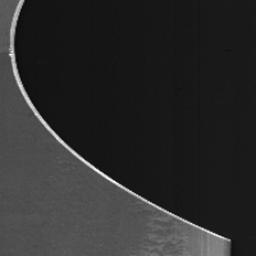Crescent gap: (15, 0, 229, 238)
